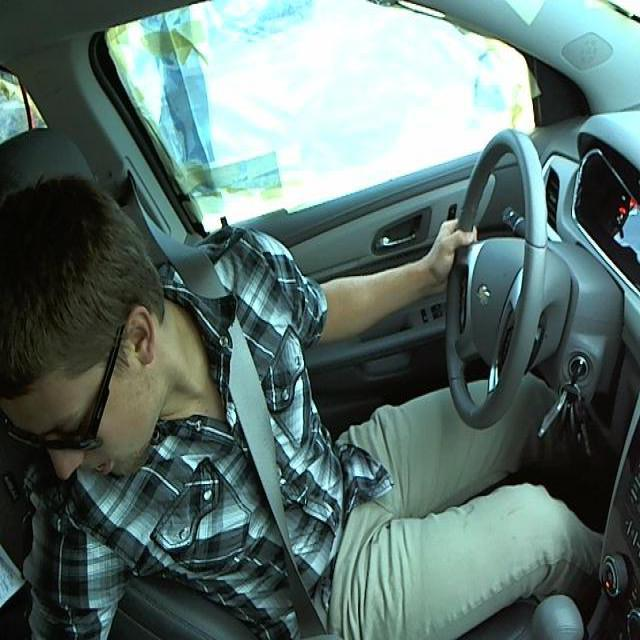seatbelt: (200, 322, 341, 638)
